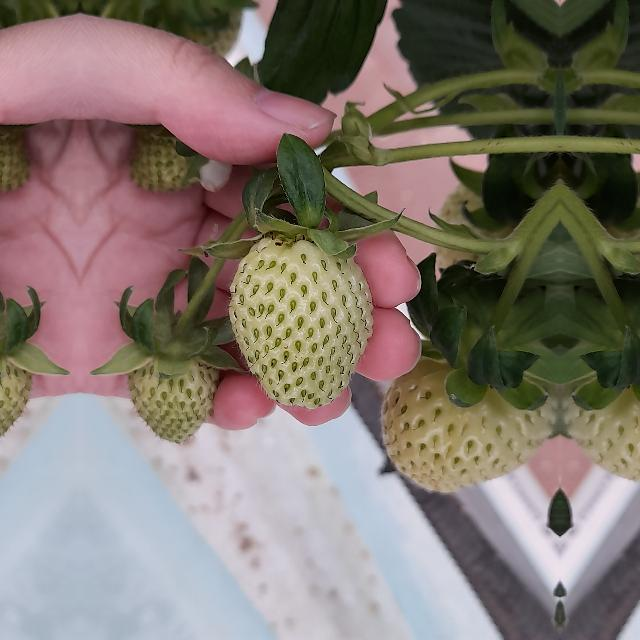Health_25: (382, 350, 560, 500), (228, 237, 374, 409), (123, 322, 220, 450), (560, 349, 640, 500), (128, 114, 226, 202), (0, 322, 37, 449), (0, 114, 32, 202)
